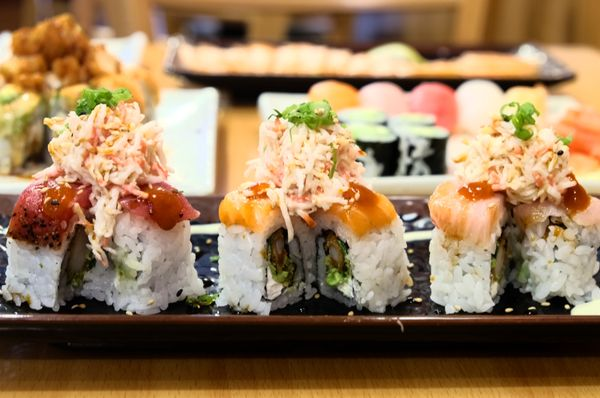soup: (214, 96, 413, 316)
